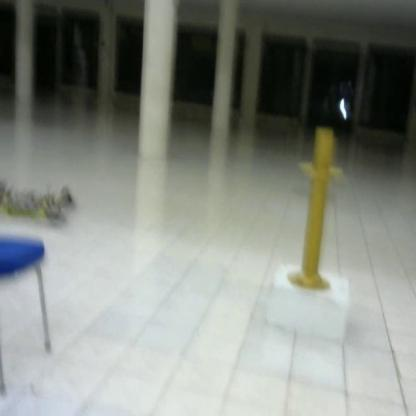pole: (286, 120, 349, 299)
